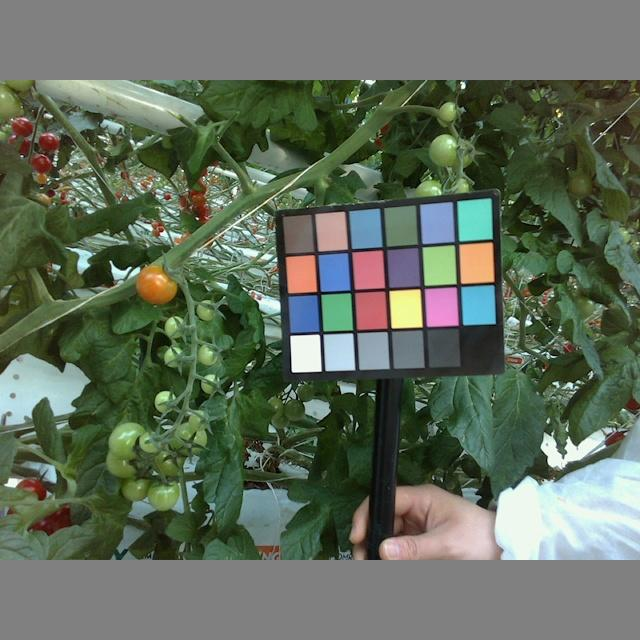green: (108, 420, 147, 461), (172, 421, 208, 459), (429, 132, 462, 168), (149, 477, 179, 511), (123, 473, 149, 501), (163, 312, 186, 339), (154, 390, 177, 415), (163, 345, 187, 368), (187, 410, 209, 433), (435, 101, 458, 123), (196, 342, 217, 366), (138, 430, 161, 451), (196, 300, 218, 321), (201, 374, 222, 395)
pink: (135, 262, 177, 303)
